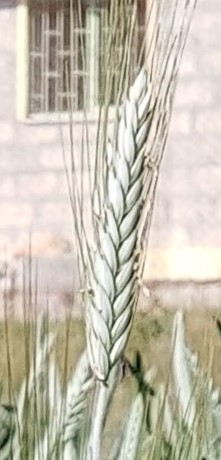Healthy Wheat: (79, 77, 171, 383)
